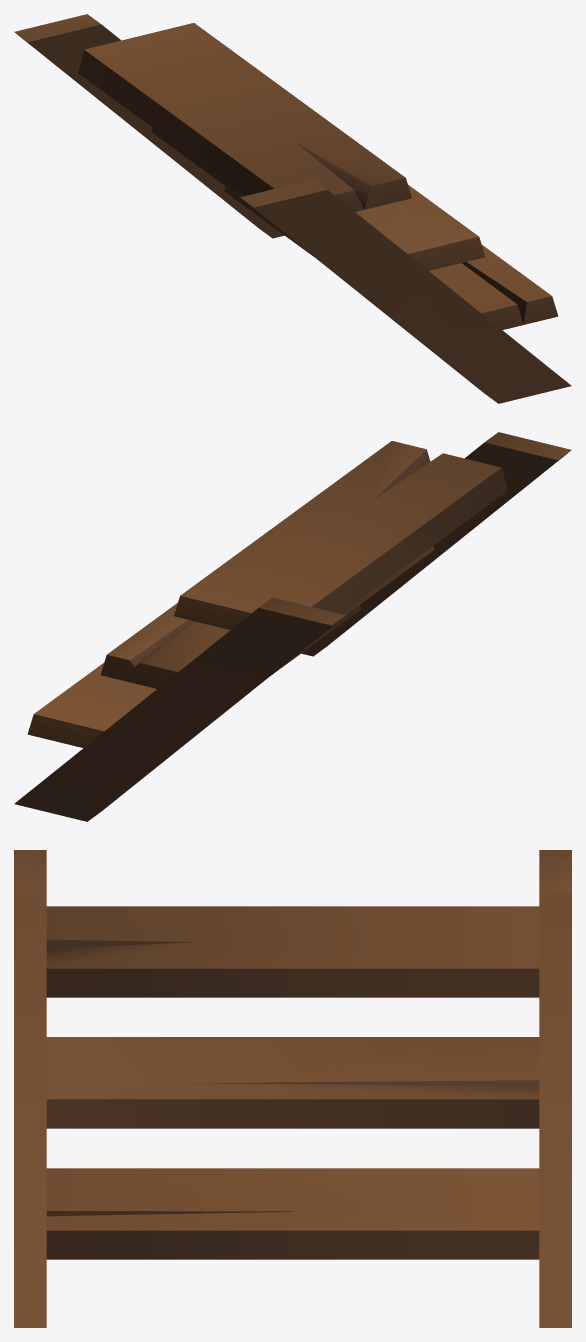
File: Wooden_Steps_1A.fbx
3 views of the same model, one above another, from view 1: azimuth 30°, elevation 25°; view 2: azimuth 150°, elevation 25°; view 3: azimuth 270°, elevation 25° (orthographic). The views are drawn at different scales.
Visible parts, largest first — view 1: Wooden_Steps_1A; view 2: Wooden_Steps_1A; view 3: Wooden_Steps_1A.
Boxes of the visible parts, bbox=[...] form: Wooden_Steps_1A: bbox=[14, 14, 571, 403]; Wooden_Steps_1A: bbox=[14, 432, 571, 821]; Wooden_Steps_1A: bbox=[14, 850, 571, 1327].
Size of the model in its own units: 130 by 100 by 170.
